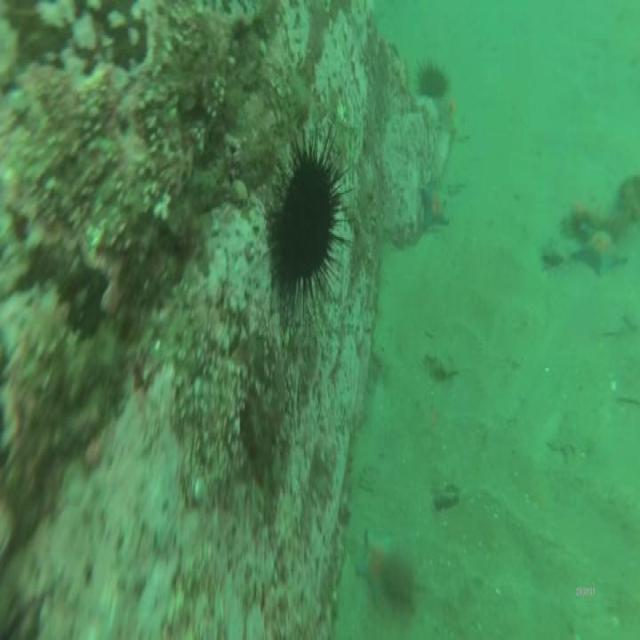echinus: (274, 158, 337, 278), (416, 68, 446, 95)
starfish: (572, 221, 628, 278), (357, 529, 393, 602), (422, 176, 448, 229)
